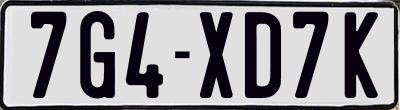4: (125, 10, 167, 100)
7: (292, 10, 333, 98), (28, 12, 64, 104)
D: (242, 11, 281, 101)
G: (78, 11, 119, 103)
K: (345, 11, 384, 98)
X: (199, 10, 238, 97)
